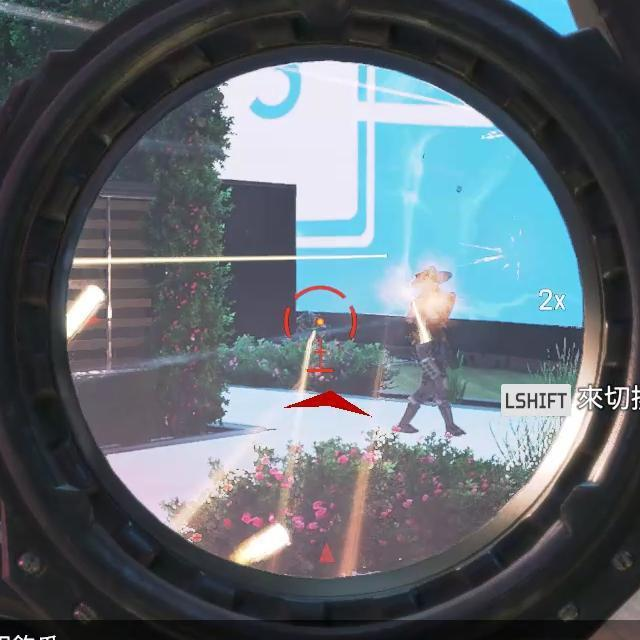avatar: (394, 263, 467, 440)
